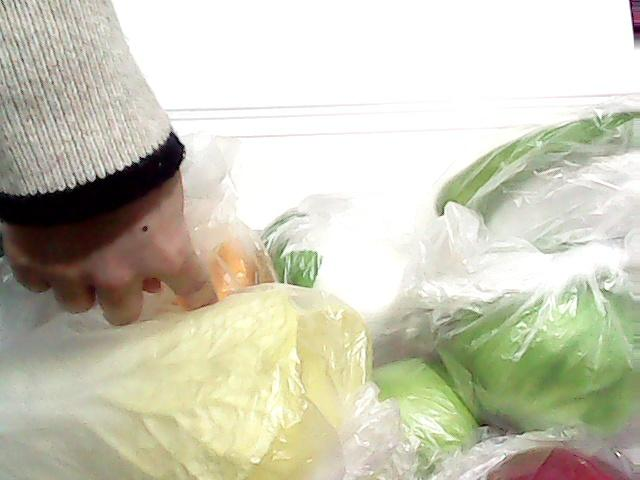apple: (365, 356, 479, 450), (476, 444, 640, 480)
cabbage: (443, 234, 640, 430)
lemon: (189, 226, 283, 320)
napa cabbage: (0, 279, 364, 480)
pepper: (412, 83, 640, 242)
radish: (264, 207, 431, 327)
